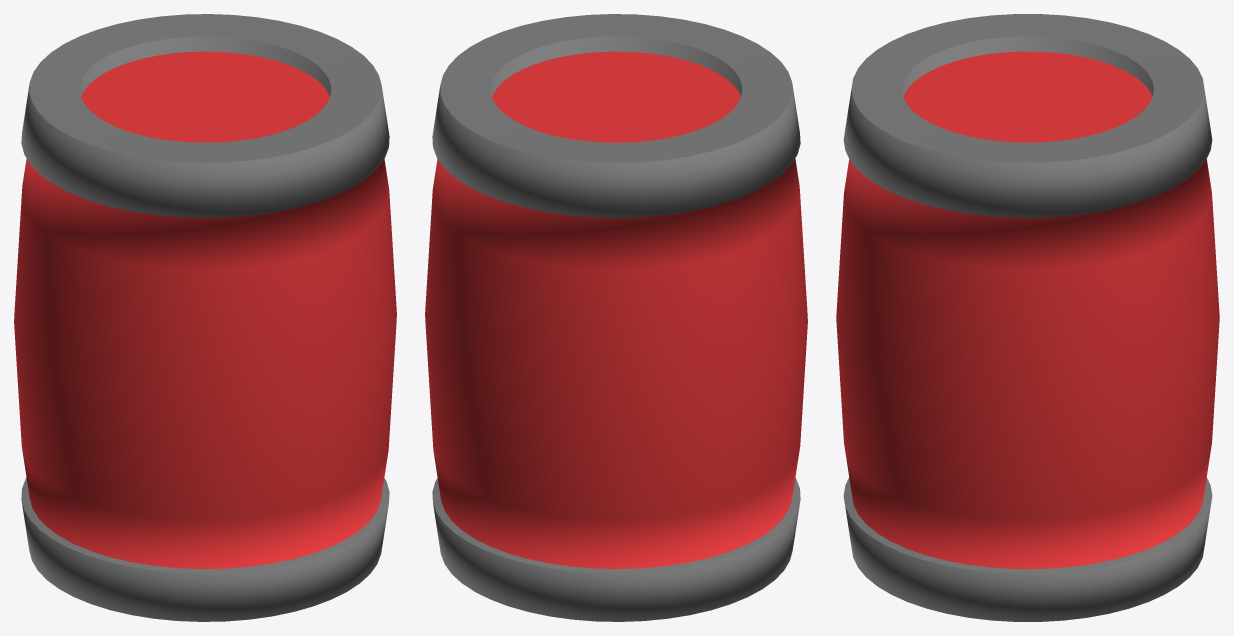
File: Explosive Barrel.fbx
3 views of the same model, side by side, from view 1: azimuth 30°, elevation 25°; view 2: azimuth 150°, elevation 25°; view 3: azimuth 270°, elevation 25° (orthographic).
Visible parts, largest first — view 1: Barrel; view 2: Barrel; view 3: Barrel.
Boxes of the visible parts, left/top/right/bottom form: Barrel: left=14, top=14, right=396, bottom=621; Barrel: left=425, top=14, right=807, bottom=621; Barrel: left=836, top=14, right=1219, bottom=621.
Size of the model in its own units: 228 by 301 by 228.
